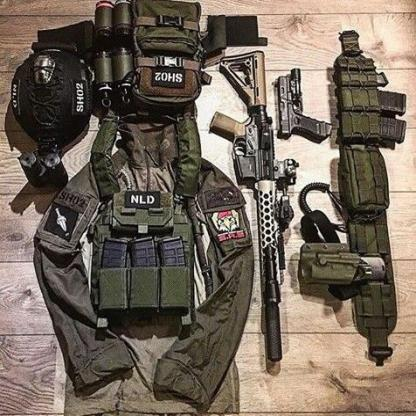Grenade: (90, 49, 116, 108), (115, 46, 134, 104), (93, 0, 114, 43), (115, 0, 133, 41)
Gun: (208, 49, 300, 362)
Pistol: (272, 67, 334, 144)
